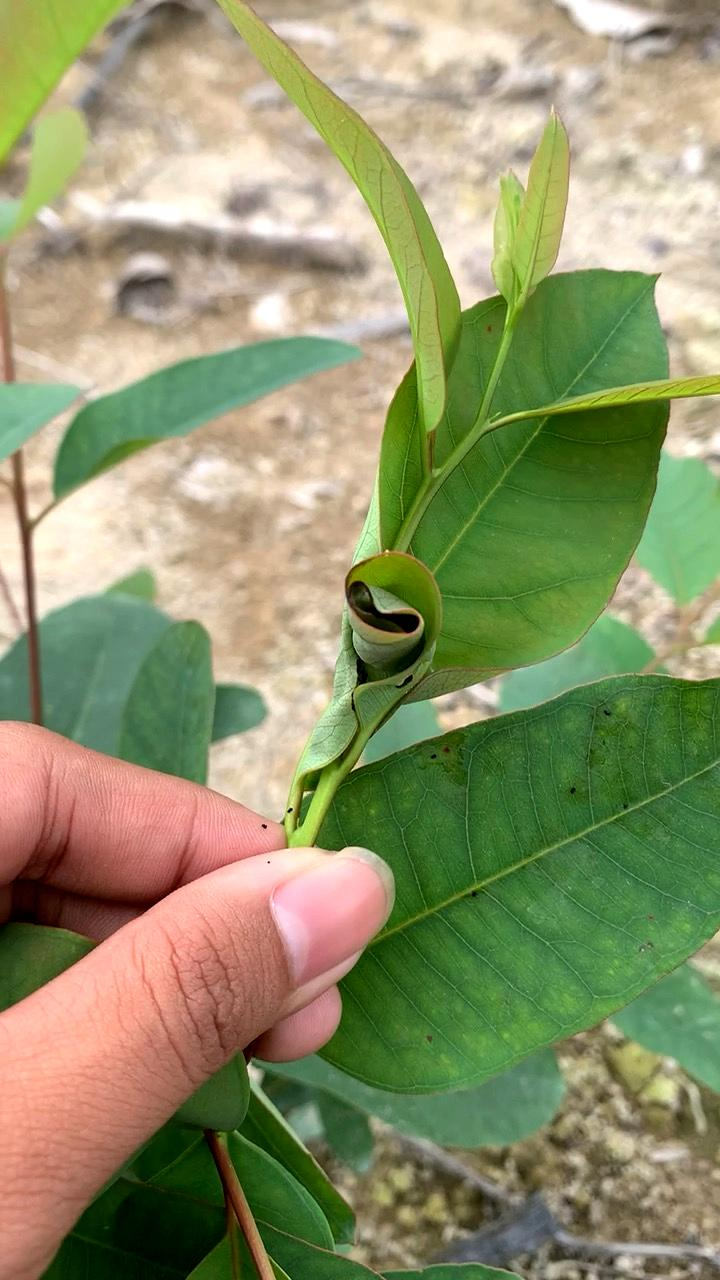Leaf Roller - Leaf: (305, 530, 487, 752)
